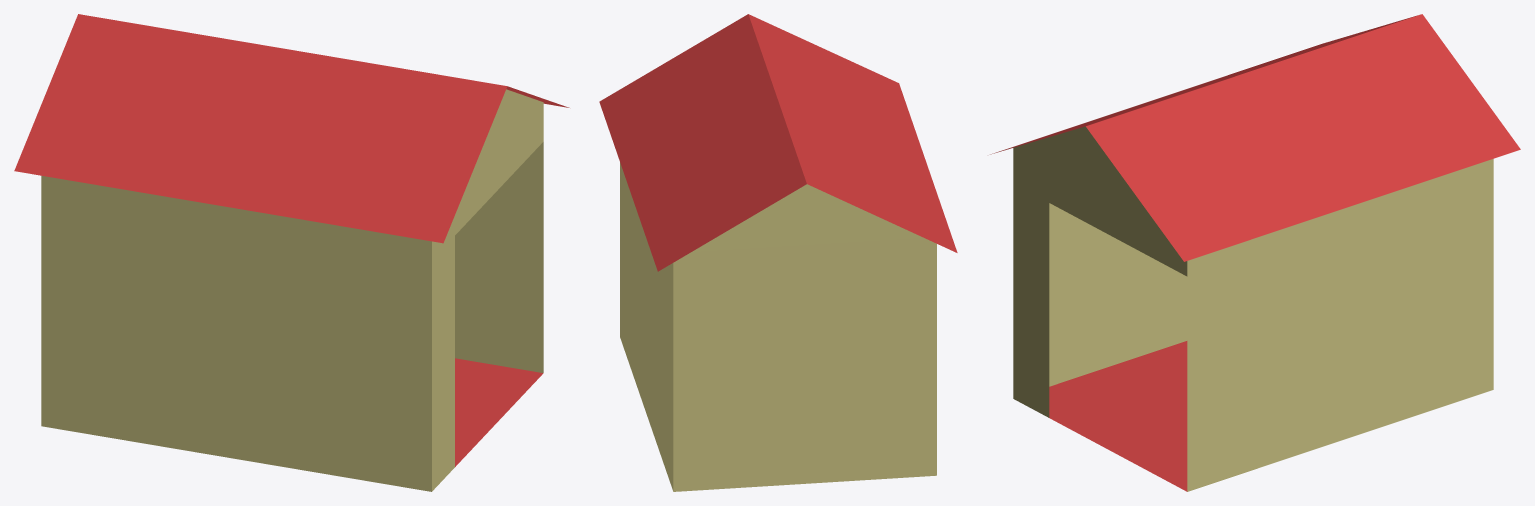
3 views of the same model, side by side, from view 1: azimuth 30°, elevation 25°; view 2: azimuth 150°, elevation 25°; view 3: azimuth 270°, elevation 25° (orthographic). The views are drawn at different scales.
Bounding box in the file's own units: 13.33 × 13.8 × 9.24.
